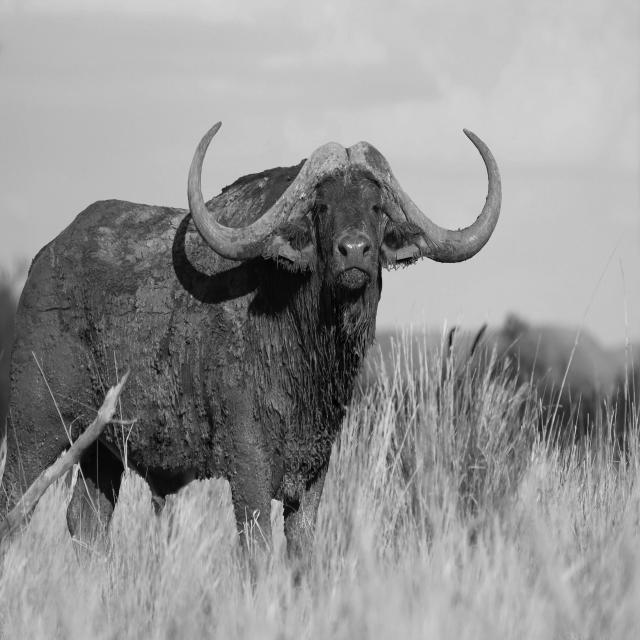Buffalo: (1, 115, 501, 577)
